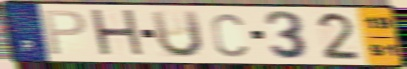2: (314, 10, 363, 62)
3: (263, 9, 311, 62)
C: (209, 11, 250, 58)
H: (87, 8, 148, 60)
P: (41, 8, 89, 57)
U: (148, 9, 206, 60)
